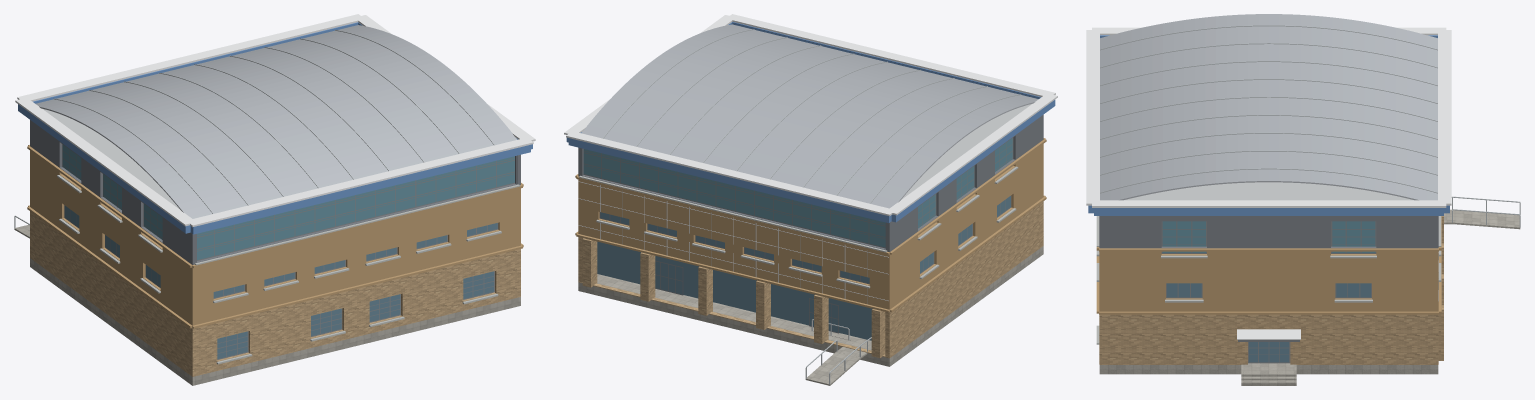
3 renders of one model, left to right at view 1: azimuth 30°, elevation 25°; view 2: azimuth 150°, elevation 25°; view 3: azimuth 270°, elevation 25°, orthographic. The views are drawn at different scales.
Visible parts, largest first — view 1: achigwan__metalroof, achigwan__wood, achigwan__brick, achigwan__clerestoryglass, achigwan__cap, achigwan__blue, achigwan__stone, achigwan__frame, achigwan__glass, achigwan__darkframe, achigwan__sill, achigwan__steel (+1 smaller); view 2: achigwan__metalroof, achigwan__wood, achigwan__brick, achigwan__clerestoryglass, achigwan__glass, achigwan__cap, achigwan__stone, achigwan__blue, achigwan__darkframe, achigwan__frame, achigwan__steel, achigwan__sill (+4 smaller); view 3: achigwan__metalroof, achigwan__wood, achigwan__brick, achigwan__darkframe, achigwan__cap, achigwan__steel, achigwan__roof, achigwan__blue, achigwan__stone, achigwan__clerestoryglass, achigwan__glass, achigwan__frame (+4 smaller).
Part boxes in pixels (x1,y1,x2,y2): achigwan__metalroof: [35, 25, 517, 218]; achigwan__wood: [27, 145, 523, 328]; achigwan__brick: [30, 211, 520, 376]; achigwan__clerestoryglass: [62, 144, 514, 259]; achigwan__cap: [15, 14, 535, 227]; achigwan__blue: [18, 22, 532, 234]; achigwan__stone: [30, 258, 520, 385]; achigwan__frame: [62, 144, 514, 359]; achigwan__glass: [64, 205, 497, 358]; achigwan__darkframe: [30, 120, 520, 264]; achigwan__sill: [57, 175, 519, 364]; achigwan__steel: [14, 30, 494, 227]; achigwan__metalroof: [581, 24, 1038, 208]; achigwan__wood: [575, 138, 1046, 312]; achigwan__brick: [578, 201, 1043, 358]; achigwan__clerestoryglass: [583, 138, 1012, 247]; achigwan__glass: [597, 196, 1010, 340]; achigwan__cap: [564, 14, 1057, 216]; achigwan__stone: [578, 246, 1043, 366]; achigwan__blue: [566, 22, 1055, 223]; achigwan__darkframe: [578, 115, 1043, 251]; achigwan__frame: [583, 137, 1013, 333]; achigwan__steel: [602, 29, 1021, 384]; achigwan__sill: [579, 166, 1018, 288]; achigwan__metalroof: [1100, 14, 1437, 200]; achigwan__wood: [1096, 216, 1441, 314]; achigwan__brick: [1099, 216, 1443, 364]; achigwan__darkframe: [1099, 216, 1438, 248]; achigwan__cap: [1086, 27, 1451, 339]; achigwan__steel: [1100, 25, 1520, 227]; achigwan__roof: [1124, 182, 1413, 200]; achigwan__blue: [1088, 35, 1449, 215]; achigwan__stone: [1099, 363, 1438, 374]; achigwan__clerestoryglass: [1162, 221, 1375, 252]; achigwan__glass: [1167, 283, 1370, 362]; achigwan__frame: [1161, 221, 1376, 363].
Bounding box in the file's own units: 31.42 × 15.16 × 30.78.
Materials: 16 (2 with a texture image).
